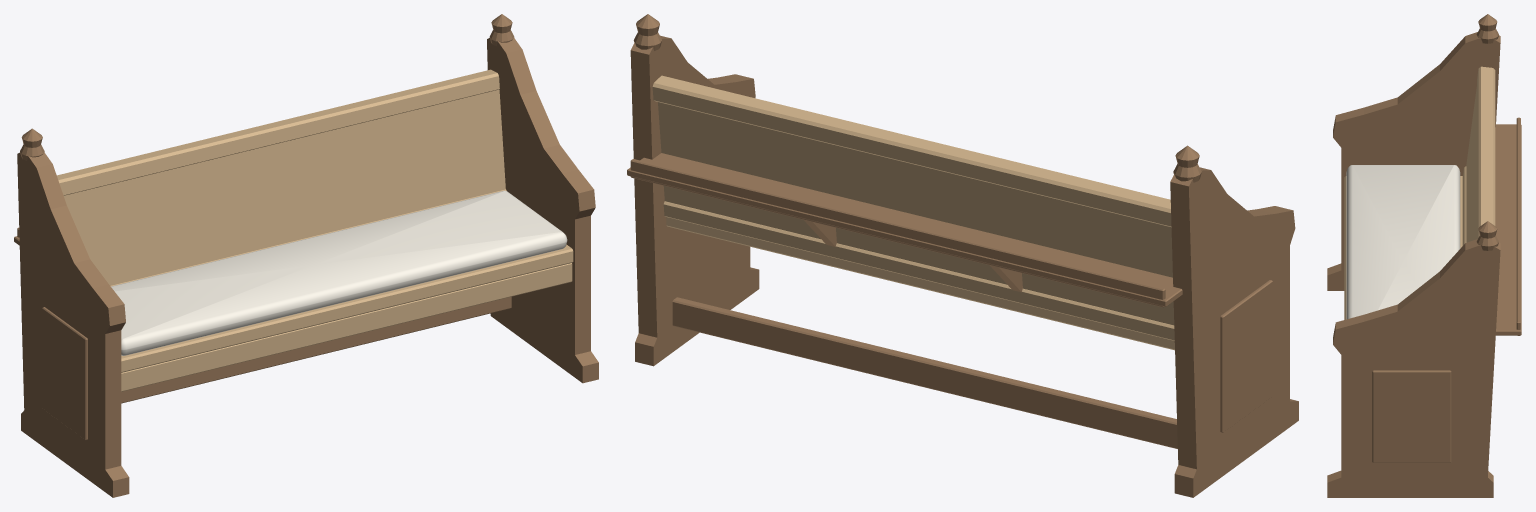
The model's file is wedding-and-chapel-kit-church-pew-7e9e07b6__39378.glb.
3 renders of one model, left to right at view 1: azimuth 30°, elevation 25°; view 2: azimuth 150°, elevation 25°; view 3: azimuth 270°, elevation 25°, orthographic. The views are drawn at different scales.
Parts seen in each view (by area): view 1: church-pew; view 2: church-pew; view 3: church-pew.
Part boxes in pixels (<box>): church-pew: <box>14,14,598,497</box>; church-pew: <box>627,14,1298,497</box>; church-pew: <box>1327,14,1521,497</box>.
Size of the model in its own units: 1.82 by 1.07 by 0.6899.
